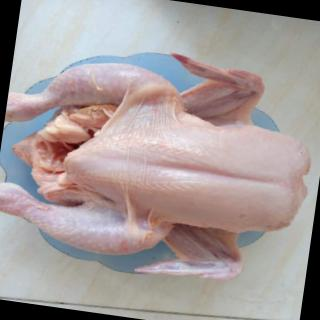Ayam: (1, 27, 320, 297)
